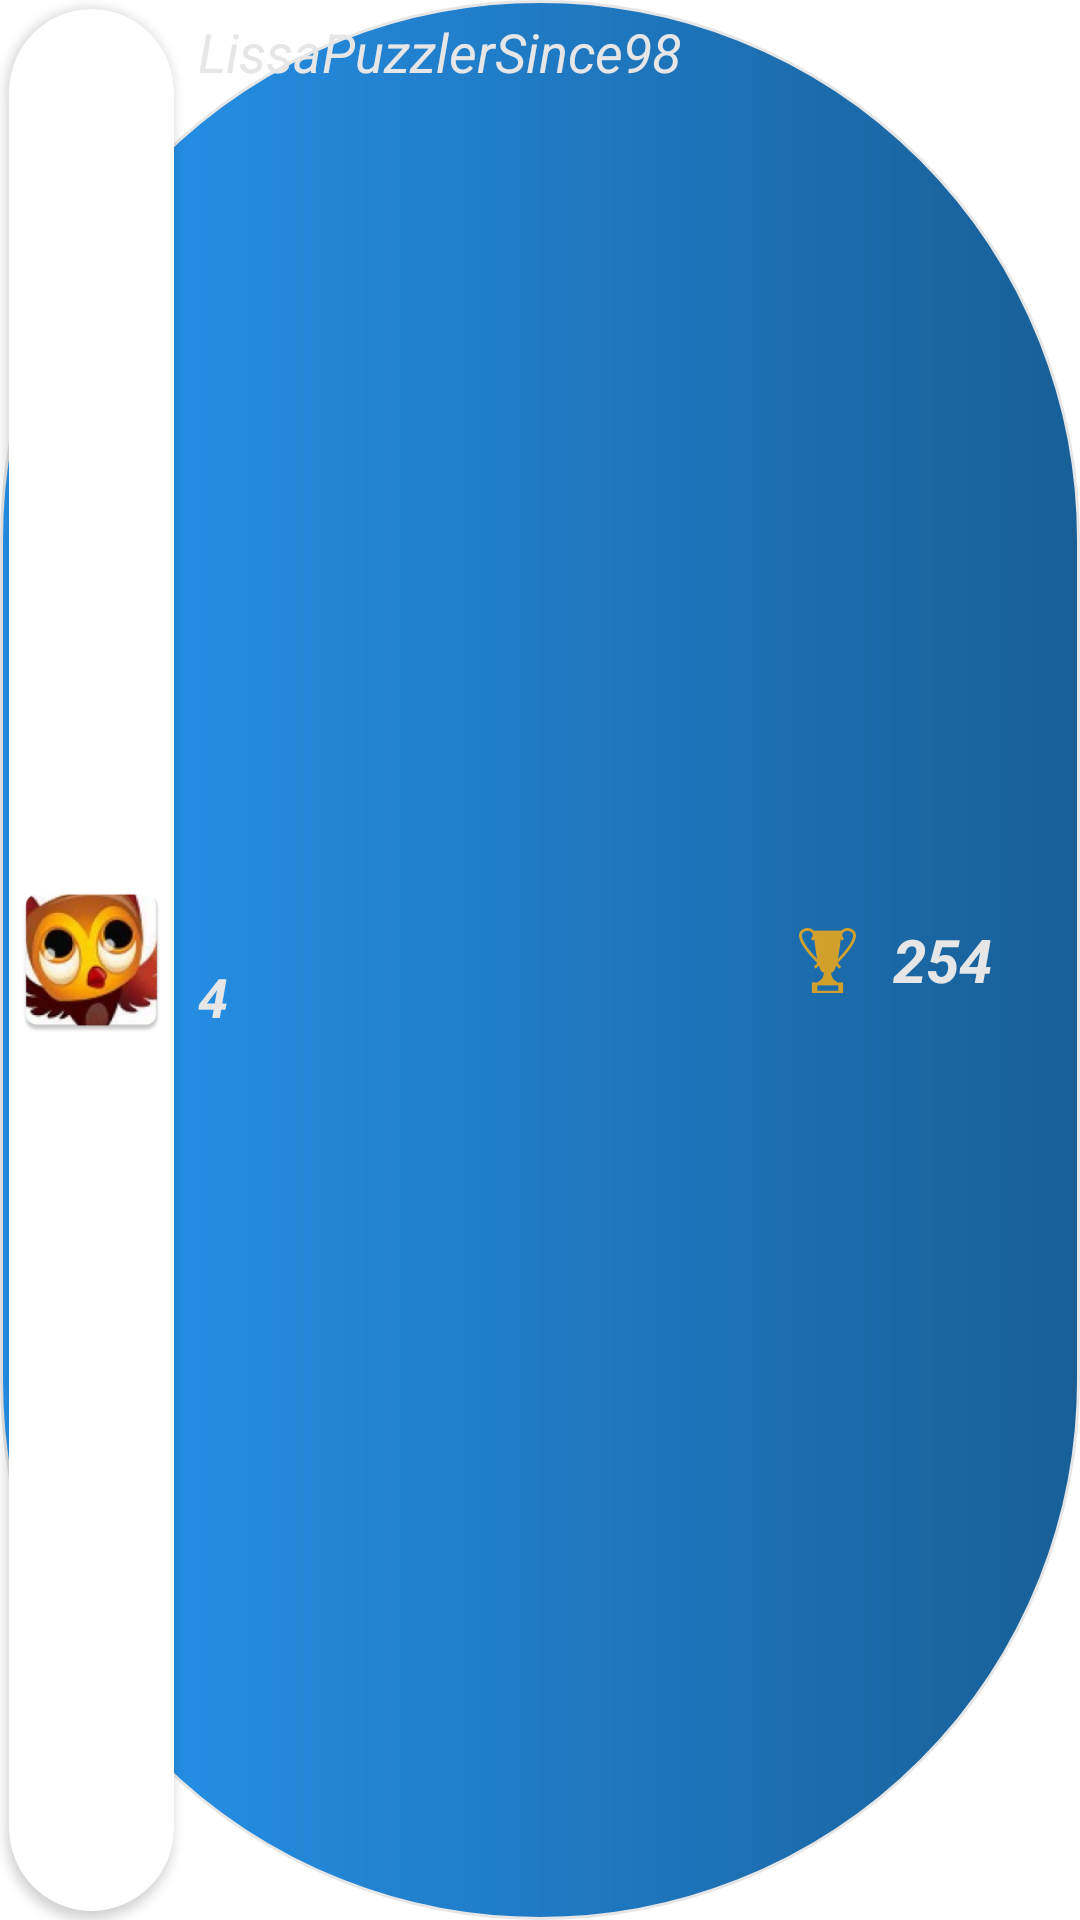

Screen size 1080*1920. Icon name, then its center in pixels as (x,y):
trophy: (827,960)
